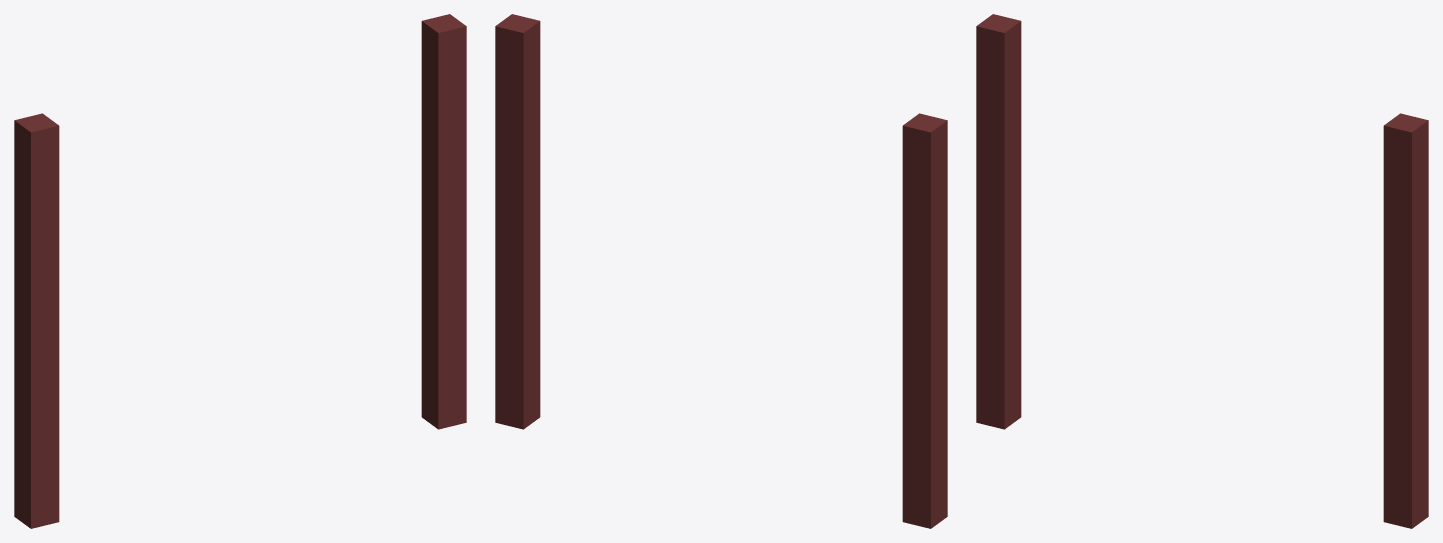
Rendered from grade.fbx.
The picture shows the model from 3 angles, left to right: view 1: azimuth 30°, elevation 25°; view 2: azimuth 150°, elevation 25°; view 3: azimuth 330°, elevation 25°; orthographic projection.
Visible parts, largest first — view 1: pCube57, pCube60; view 2: pCube57, pCube60; view 3: pCube57, pCube60.
Boxes of the visible parts, x1=… form: pCube57: x1=14, y1=113, x2=59, y2=528; pCube60: x1=421, y1=14, x2=466, y2=429; pCube57: x1=902, y1=113, x2=947, y2=528; pCube60: x1=495, y1=14, x2=540, y2=429; pCube57: x1=976, y1=14, x2=1021, y2=429; pCube60: x1=1383, y1=113, x2=1428, y2=528.
Bounding box in the file's own units: 5.59 × 4.86 × 0.3723.
